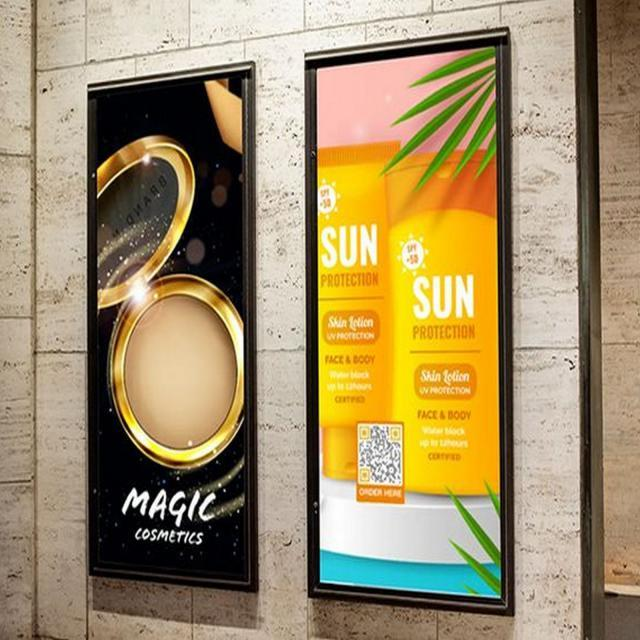qr_code: (357, 424, 402, 486)
